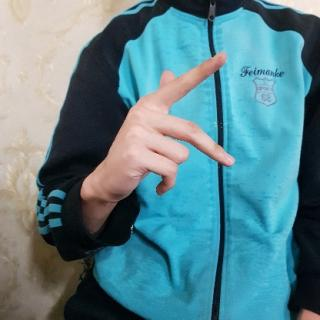DHAA: (79, 51, 246, 208)
